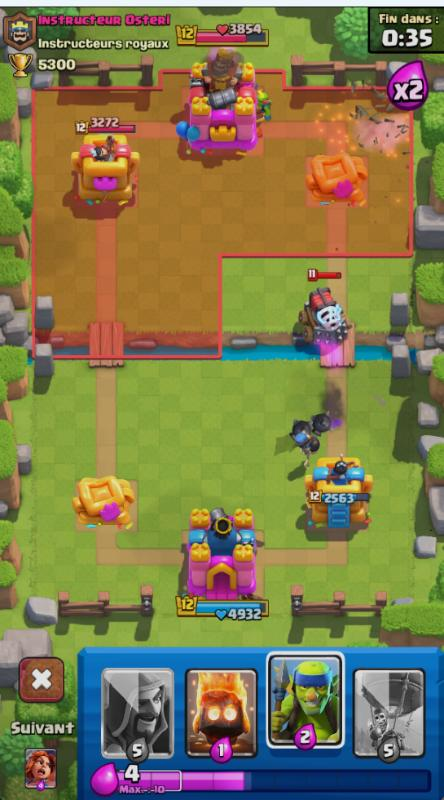gobelin: (256, 86, 277, 124)
zappy: (303, 293, 350, 352)
